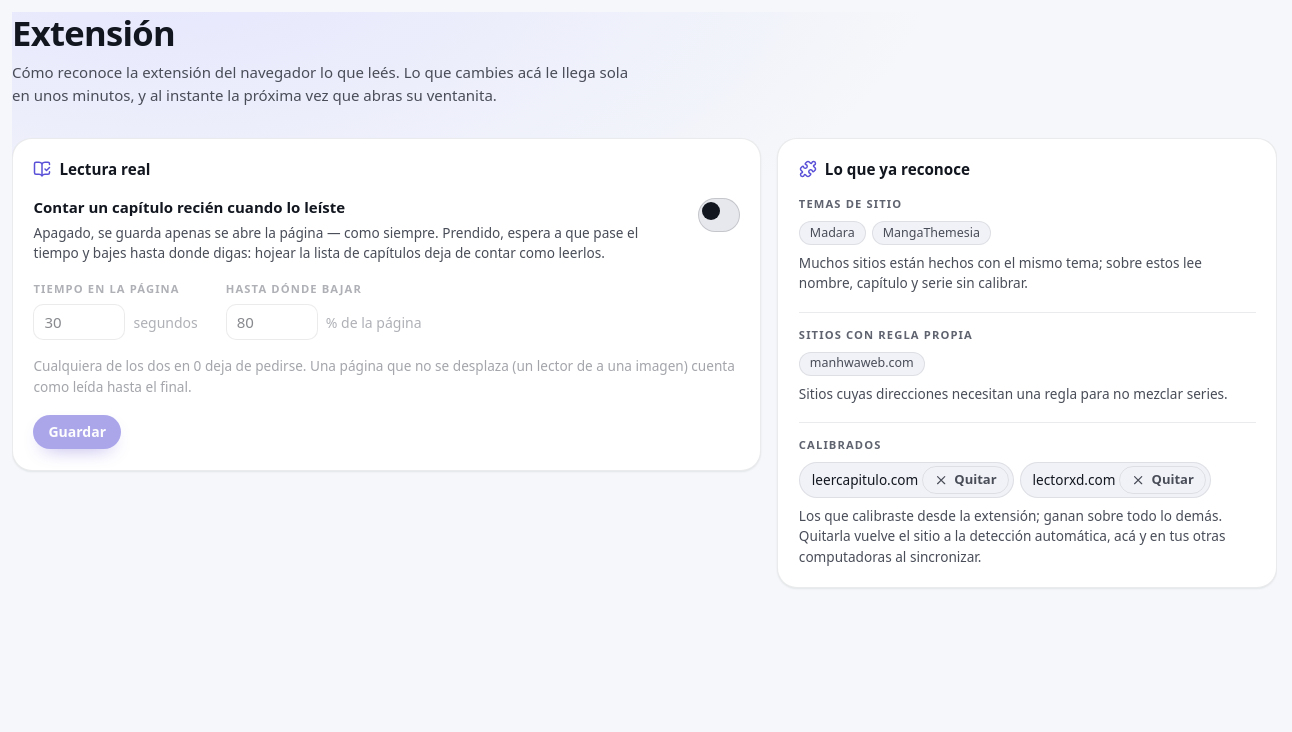
Scenario: ExtensionView › removes a calibration and takes it off the list
This screenshot has width=1292, height=732.
Click the button with aria-label "Quitar la calibración de lectorxd.com": x=1163, y=480 1119,466 -> 1206,494
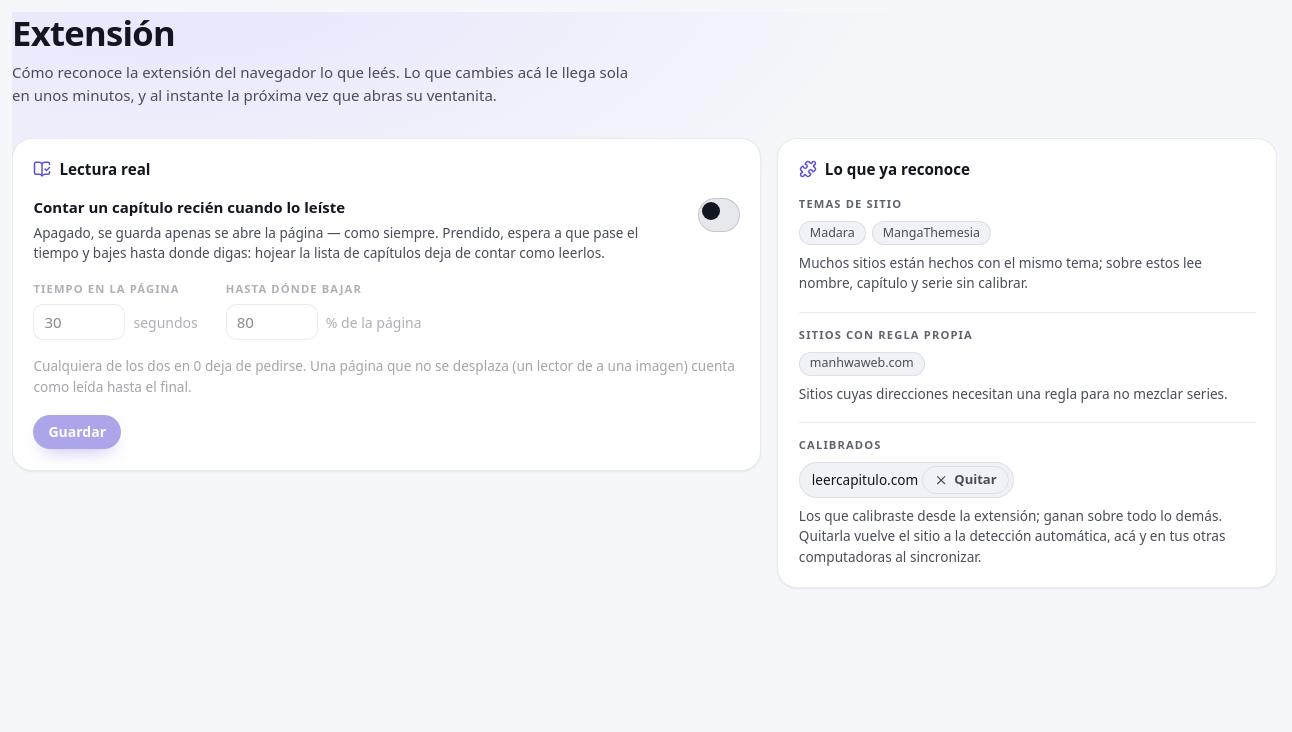
Expected: the text "leercapitulo.com" is shown, 812,470 -> 918,490
Now the text "lectorxd.com" is gone
